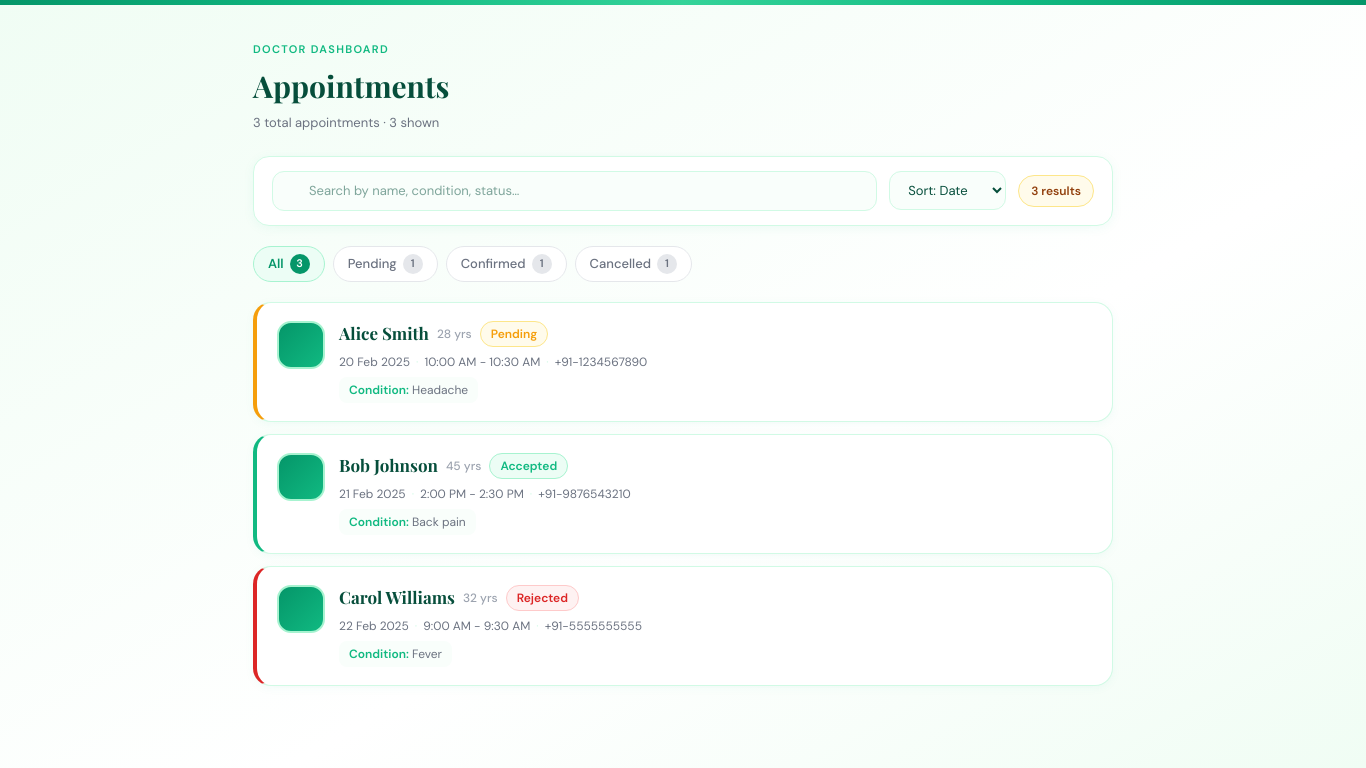
Test: AppointmentsTab Component › Status Pill Filtering › filters to show only pending appointments
Click the button "Pending 1" at (385, 264), box [333,246,438,282]
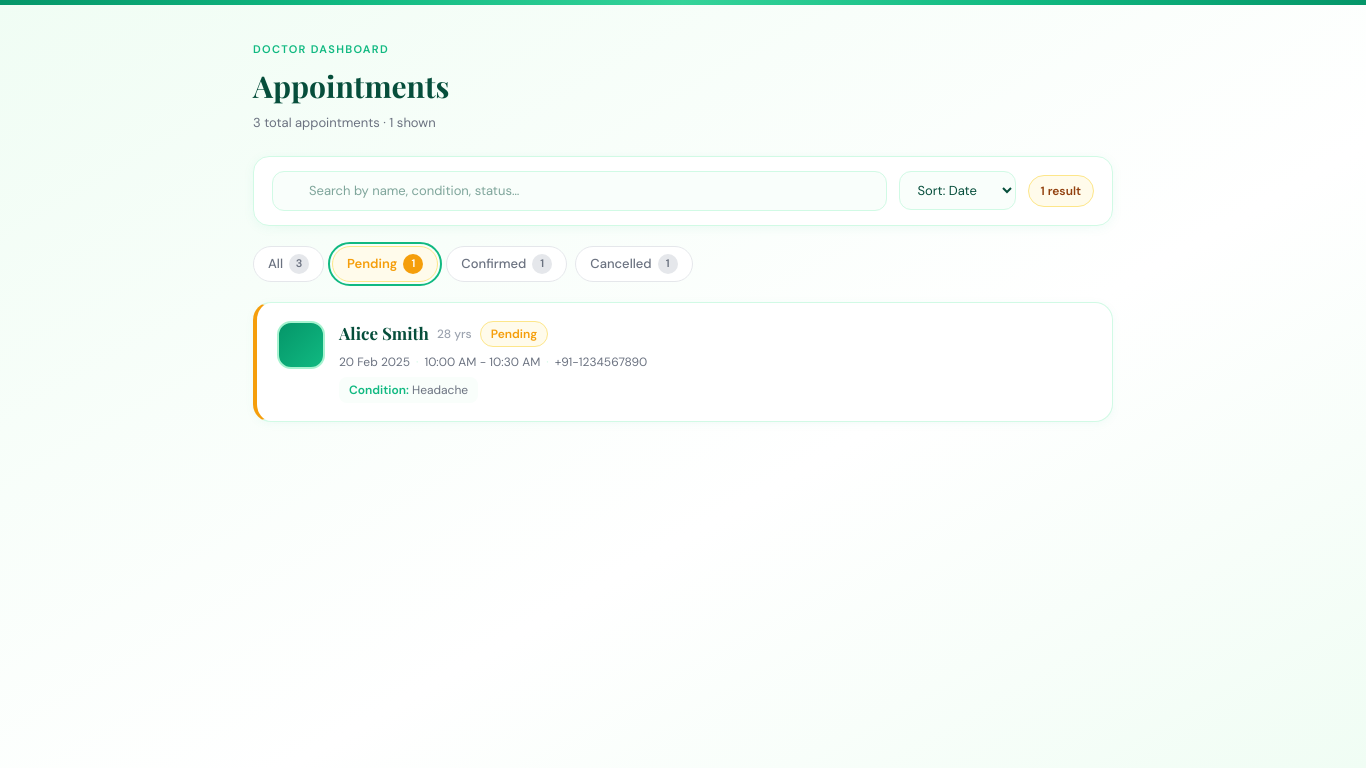
Expected: the text "Alice Smith" is shown, [339,321,429,346]
Expected: the text "Bob Johnson" is gone
Expected: the text "Carol Williams" is gone
